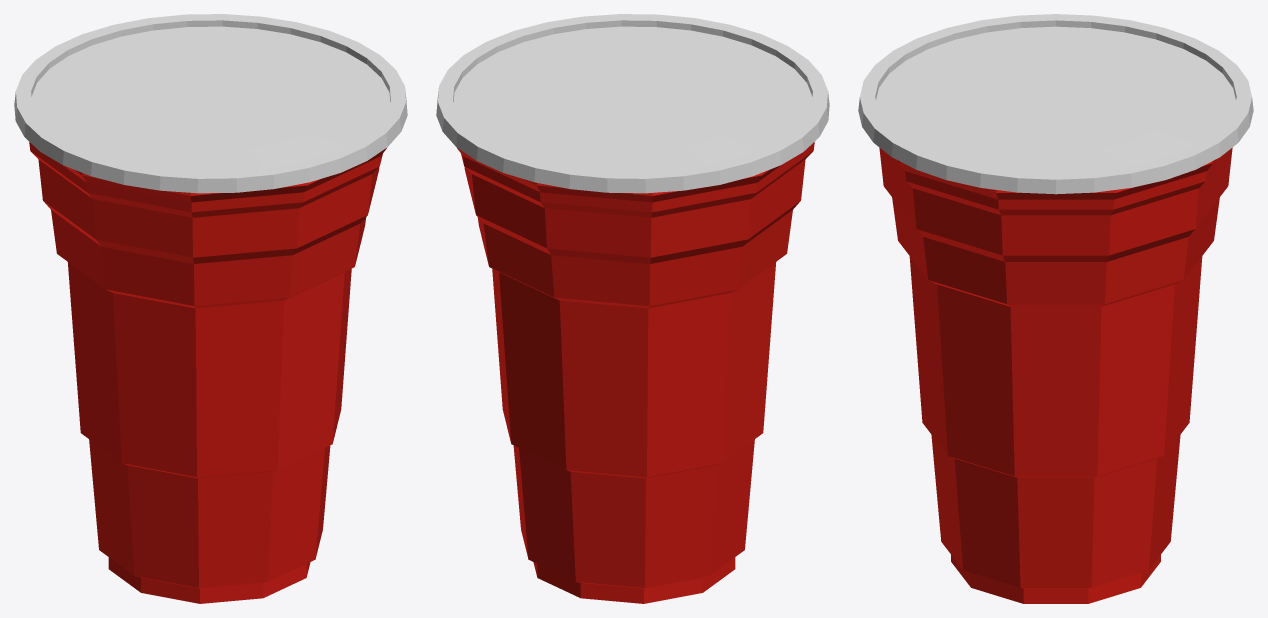
File: cUP.fbx
The picture shows the model from 3 angles, left to right: view 1: azimuth 30°, elevation 25°; view 2: azimuth 150°, elevation 25°; view 3: azimuth 270°, elevation 25°; orthographic projection.
Visible parts, largest first — view 1: Cylinder, Cylinder.001; view 2: Cylinder, Cylinder.001; view 3: Cylinder, Cylinder.001.
Boxes of the visible parts, box(x1,y1,x2,y2) form: Cylinder: box(29, 142, 386, 603); Cylinder.001: box(14, 14, 407, 193); Cylinder: box(457, 142, 814, 603); Cylinder.001: box(436, 14, 829, 193); Cylinder: box(879, 147, 1232, 603); Cylinder.001: box(858, 14, 1253, 194).
Size of the model in its own units: 377 by 489 by 377.
